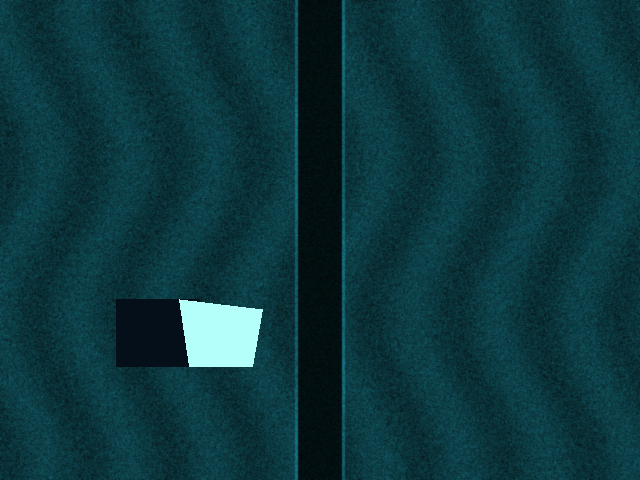Other Man-made Debris: (179, 299, 262, 366)
